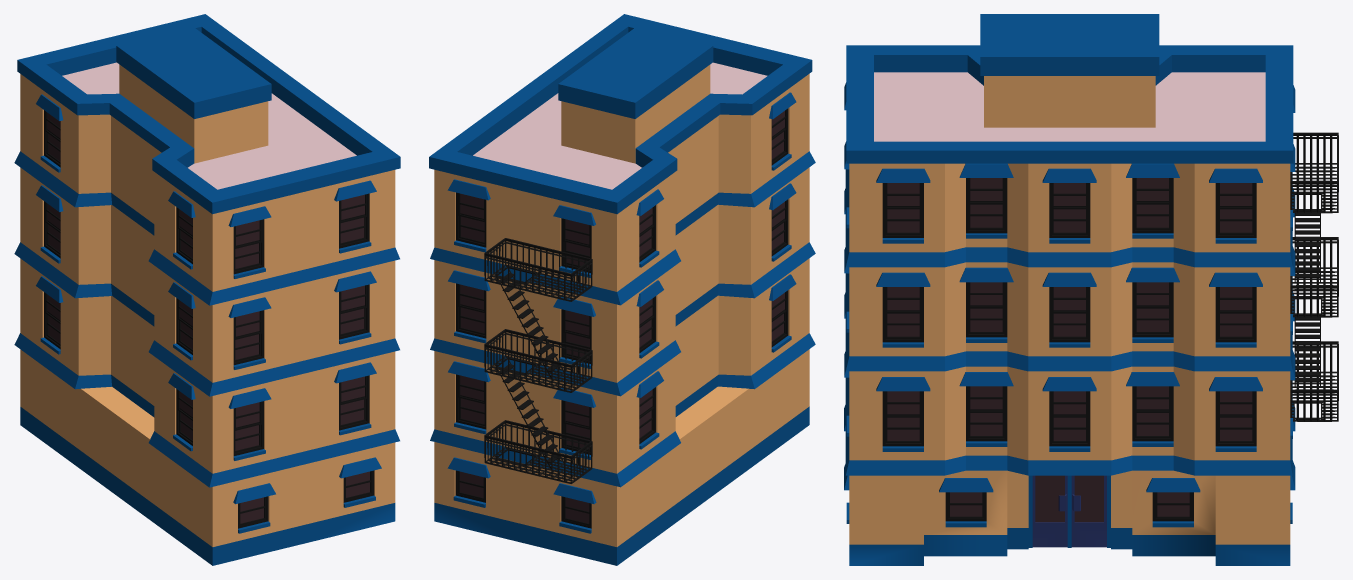
Rendered from low_poly_apartment_building_2.glb.
The picture shows the model from 3 angles, left to right: view 1: azimuth 30°, elevation 25°; view 2: azimuth 150°, elevation 25°; view 3: azimuth 270°, elevation 25°; orthographic projection. The views are drawn at different scales.
Parts seen in each view (by area): view 1: PublicBuilding_9C; view 2: PublicBuilding_9C; view 3: PublicBuilding_9C.
Boxes of the visible parts, x1,y1,x2,y2 form: PublicBuilding_9C: (14,14,400,565); PublicBuilding_9C: (429,14,815,565); PublicBuilding_9C: (844,14,1338,565).
Size of what is drawn, in the model's own units: 3.51 by 7.21 by 6.86.
Materials: 1 (1 with a texture image).
